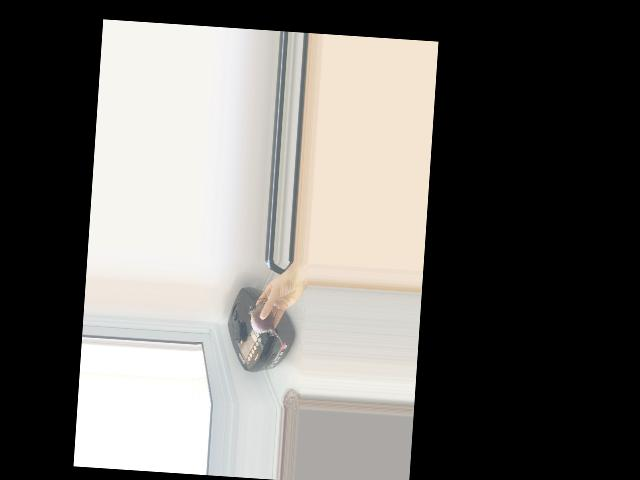beet: (247, 298, 285, 345)
